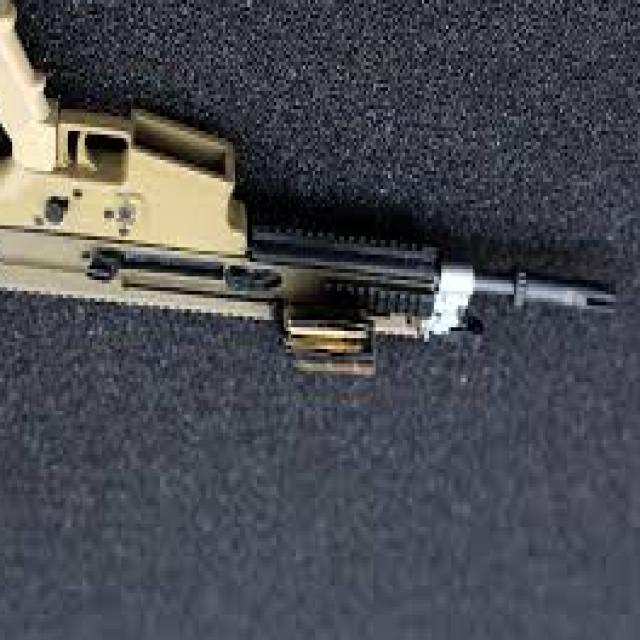Gun: (0, 0, 632, 360)
